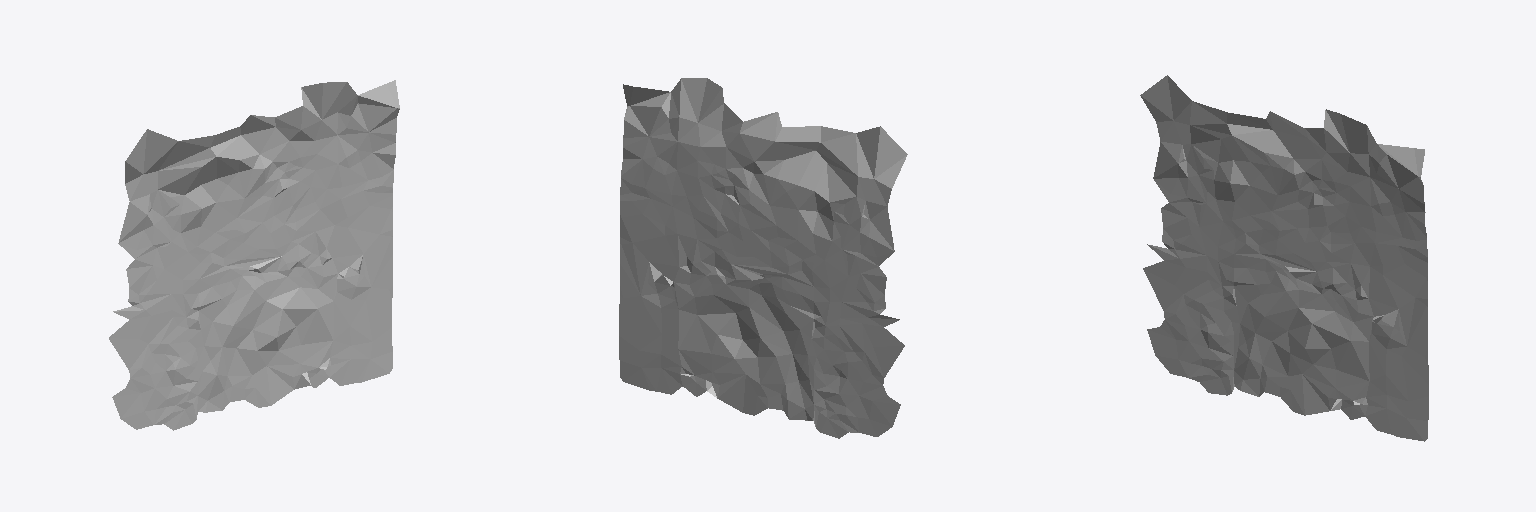
File: right.obj
The picture shows the model from 3 angles: view 1: azimuth 30°, elevation 25°; view 2: azimuth 150°, elevation 25°; view 3: azimuth 330°, elevation 25°; orthographic projection.
Bounding box in the file's own units: 4065 × 4361 × 306.